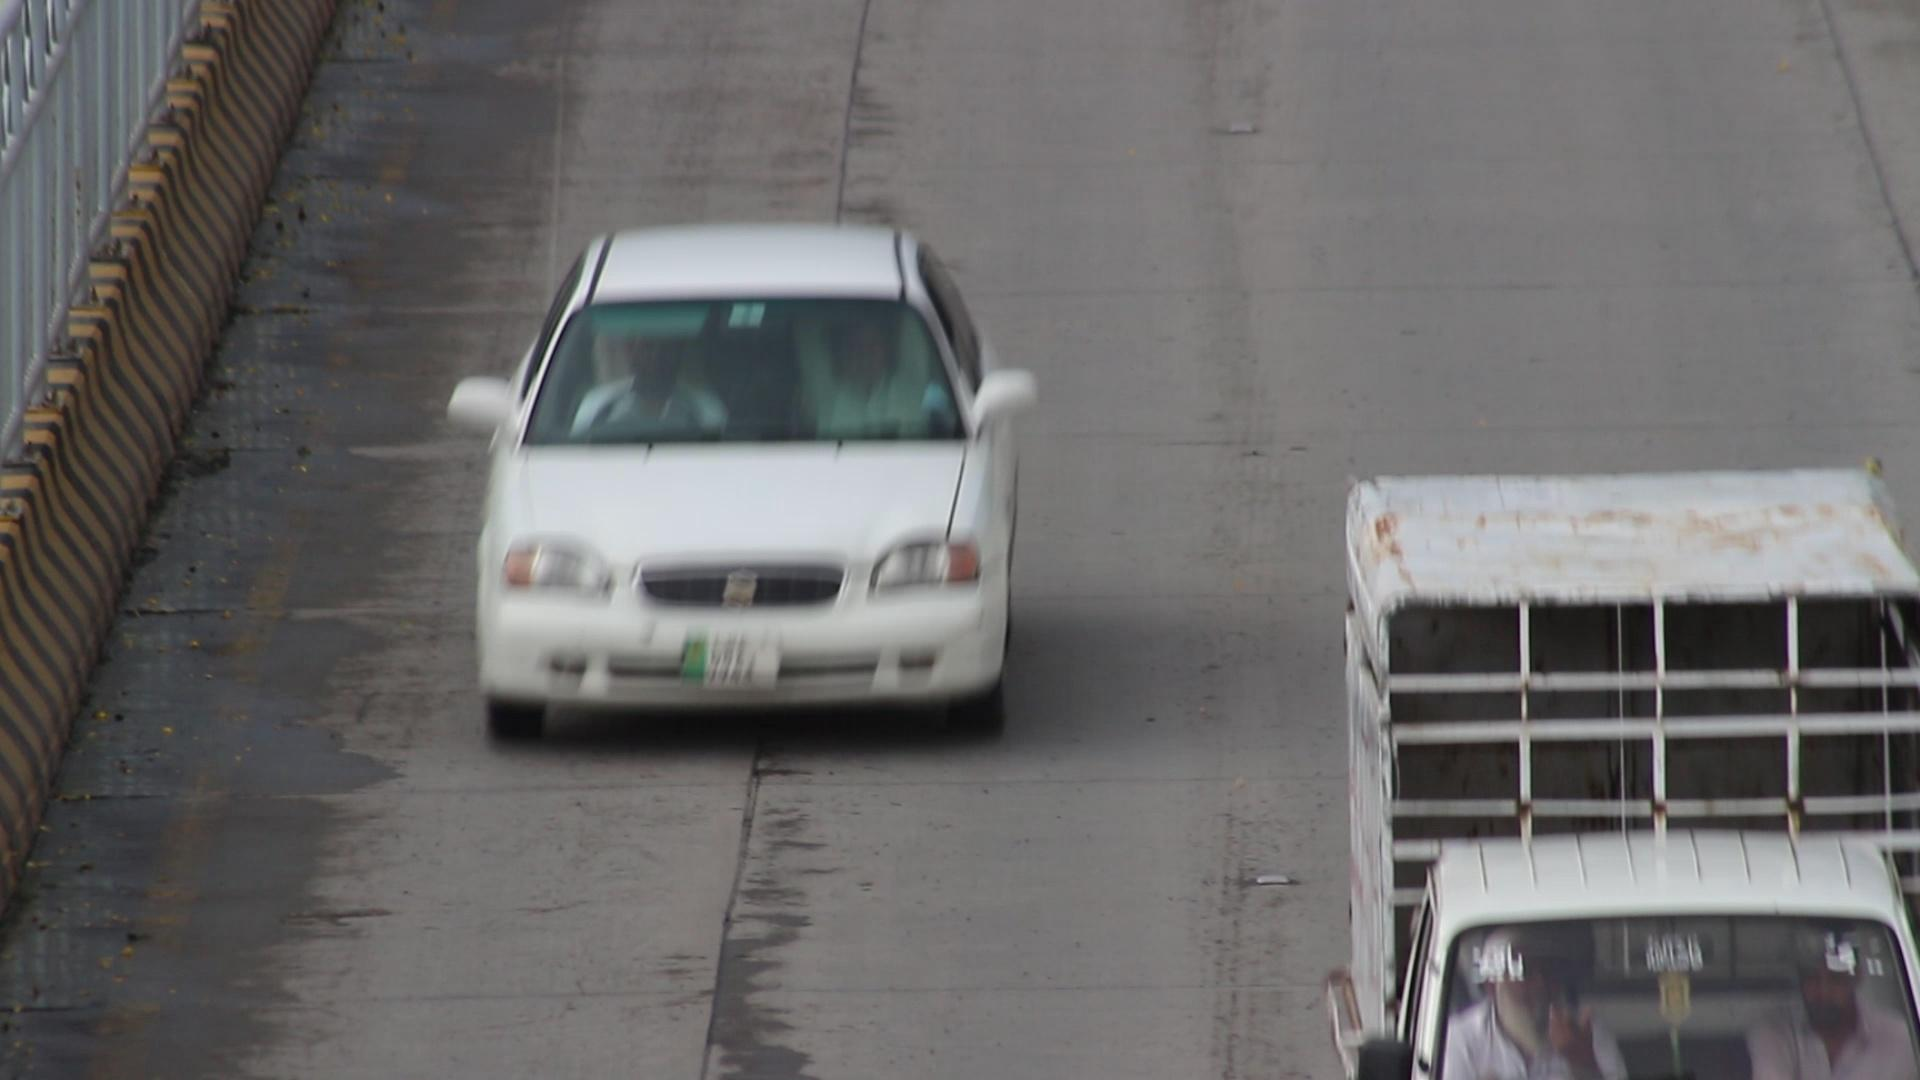windshield: (508, 280, 984, 450)
